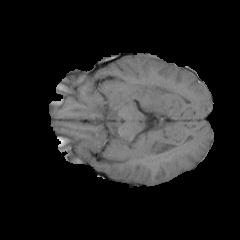glioma: (130, 80, 174, 110)
